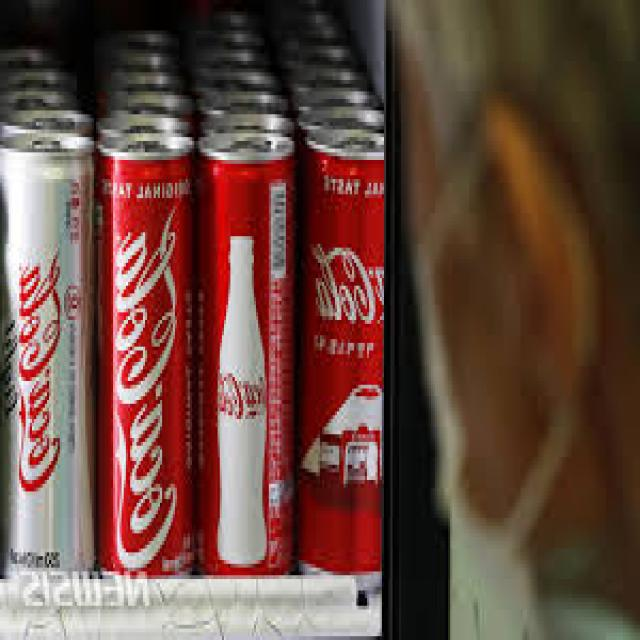Coca-Cola: (96, 131, 196, 596), (199, 122, 296, 583), (296, 125, 386, 590)
